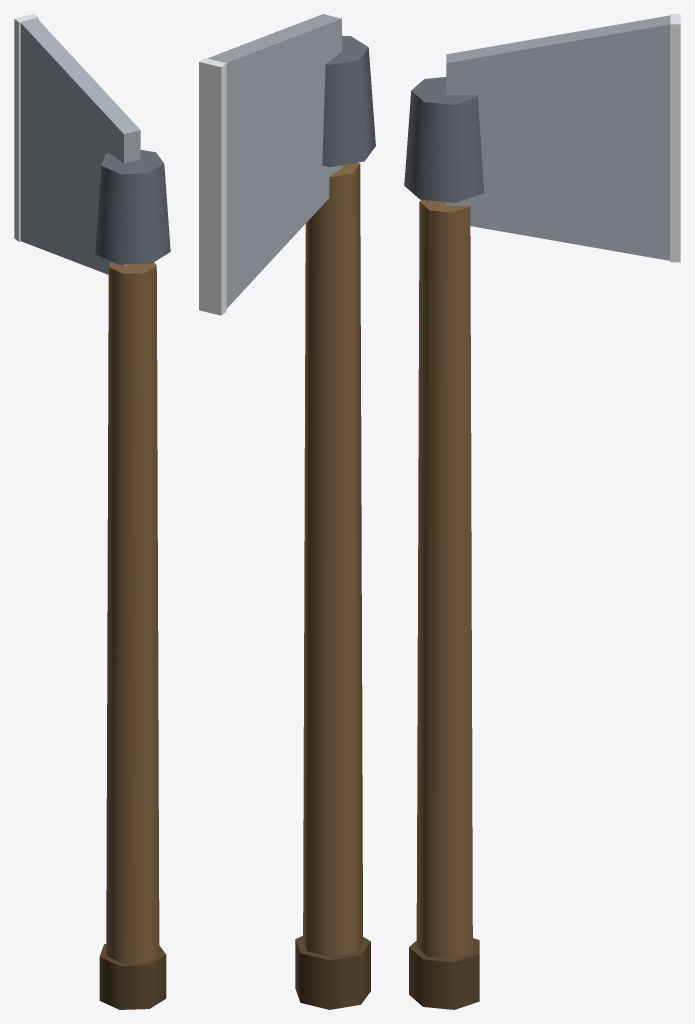
The model's file is tool_scraper.glb.
3 renders of one model, left to right at view 1: azimuth 30°, elevation 25°; view 2: azimuth 150°, elevation 25°; view 3: azimuth 270°, elevation 25°, orthographic. The views are drawn at different scales.
Visible parts, largest first — view 1: _MeshInstance3D_884, _MeshInstance3D_887, _MeshInstance3D_886, _MeshInstance3D_885, _MeshInstance3D_888; view 2: _MeshInstance3D_884, _MeshInstance3D_887, _MeshInstance3D_888, _MeshInstance3D_886, _MeshInstance3D_885; view 3: _MeshInstance3D_887, _MeshInstance3D_884, _MeshInstance3D_886, _MeshInstance3D_885, _MeshInstance3D_888.
Part boxes in pixels (x1,y1,x2,y2): _MeshInstance3D_884: (106,261,159,963); _MeshInstance3D_887: (20,18,140,274); _MeshInstance3D_886: (95,150,170,264); _MeshInstance3D_885: (99,944,166,1009); _MeshInstance3D_888: (14,14,38,241); _MeshInstance3D_884: (303,162,362,956); _MeshInstance3D_887: (207,14,341,308); _MeshInstance3D_888: (199,58,226,315); _MeshInstance3D_886: (322,35,375,167); _MeshInstance3D_885: (295,936,370,1009); _MeshInstance3D_887: (446,15,670,260); _MeshInstance3D_884: (416,199,472,959); _MeshInstance3D_886: (404,77,483,202); _MeshInstance3D_885: (409,938,479,1009); _MeshInstance3D_888: (670,14,680,262).
Size of the model in its own units: 0.0468 by 0.615 by 0.158.
